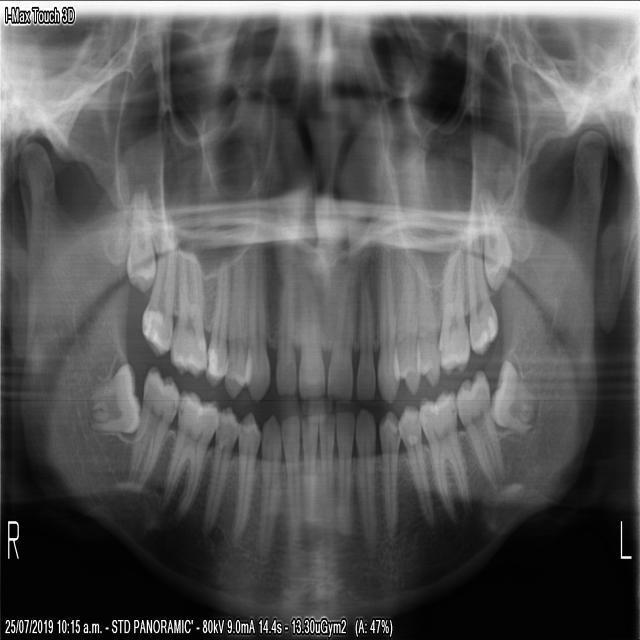LCD: (352, 406, 376, 552)
LCU: (374, 236, 400, 406)
LID: (333, 406, 354, 537), (317, 408, 335, 530)
LIU: (324, 255, 355, 403), (353, 258, 376, 401)
LMD: (415, 385, 470, 531), (452, 362, 503, 499), (487, 354, 537, 434)
LMU: (433, 239, 469, 377), (466, 227, 499, 358), (478, 187, 513, 294)
LPMD: (395, 402, 433, 531), (377, 410, 403, 542)
LPMU: (390, 236, 420, 396), (414, 250, 440, 390)
RCD: (256, 411, 281, 562)
RCU: (242, 232, 270, 407)
RID: (279, 413, 299, 534), (299, 409, 318, 526)
RIU: (295, 250, 324, 401), (271, 245, 296, 396)
RMD: (157, 385, 218, 525), (125, 361, 178, 491), (86, 359, 141, 436)
RMU: (165, 244, 208, 381), (137, 227, 178, 358), (122, 179, 156, 295)
RPMD: (198, 403, 241, 540), (227, 410, 261, 540)
RPMU: (221, 247, 252, 401), (202, 254, 231, 389)
